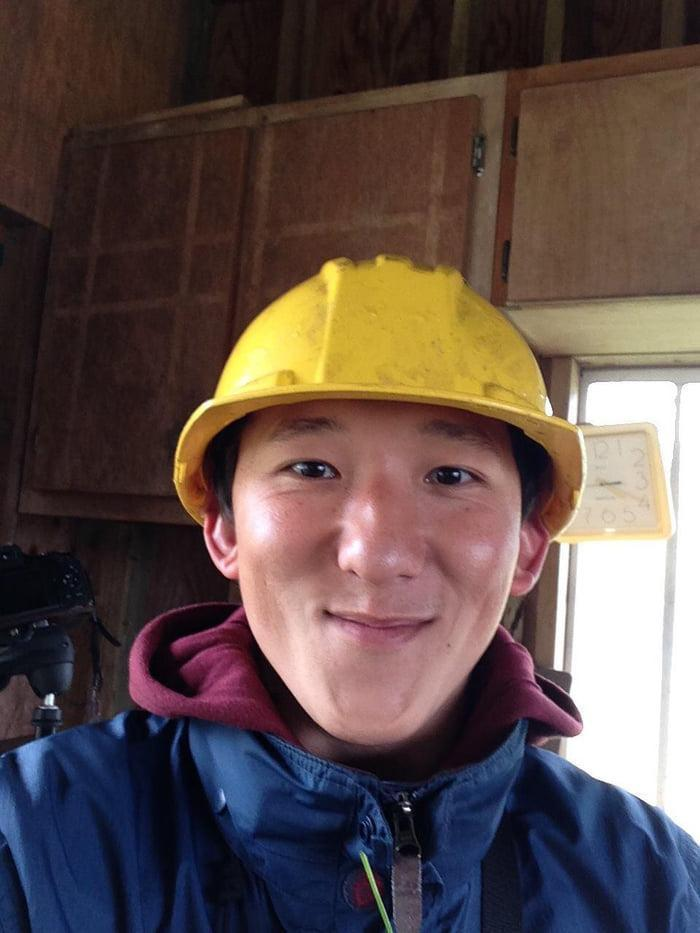helmet: (172, 250, 585, 542)
